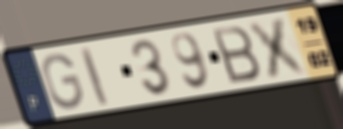3: (131, 37, 171, 98)
9: (171, 31, 213, 91)
B: (209, 23, 264, 86)
G: (40, 51, 86, 111)
I: (76, 44, 112, 109)
X: (243, 14, 313, 81)
